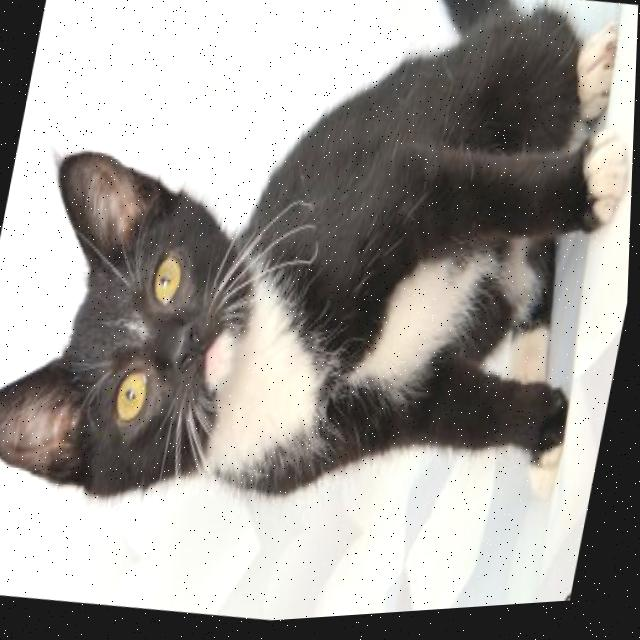Tuxedo: (0, 0, 640, 587)
